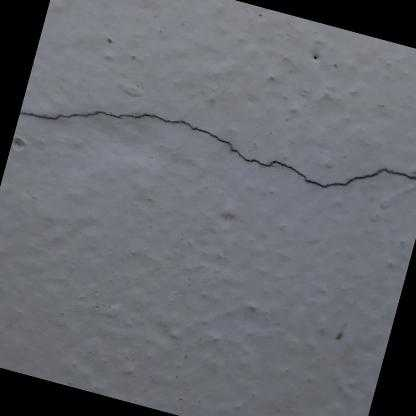crack: (18, 109, 416, 187)
